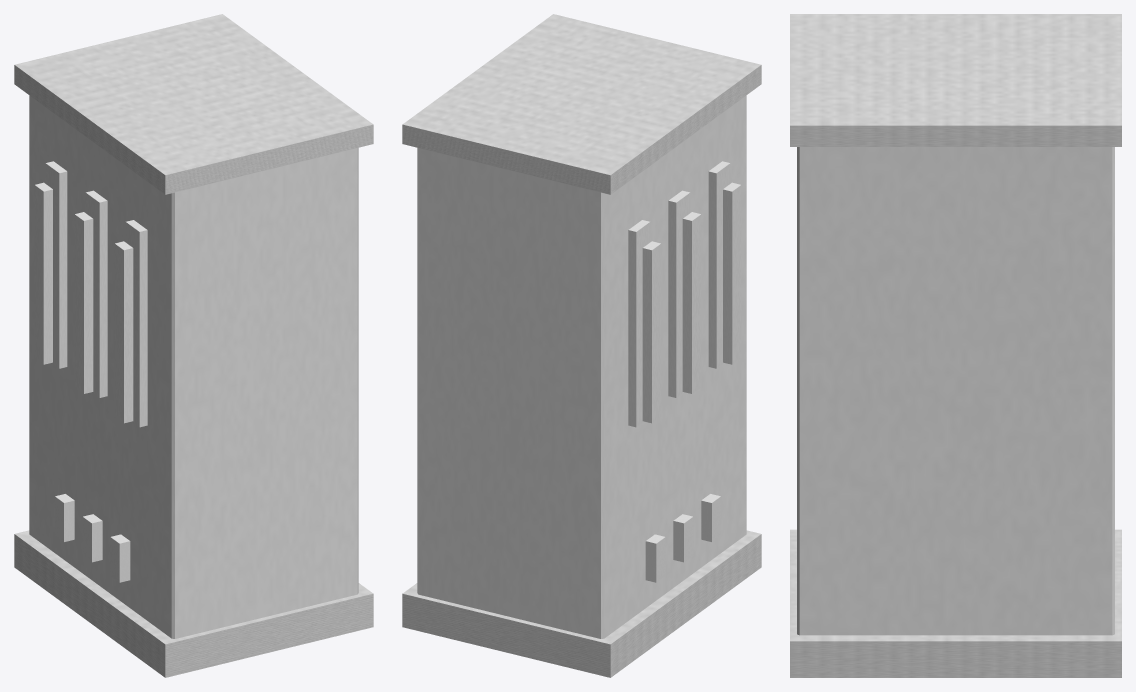
Rendered from undergroundfused3.obj.
The picture shows the model from 3 angles, left to right: view 1: azimuth 30°, elevation 25°; view 2: azimuth 150°, elevation 25°; view 3: azimuth 270°, elevation 25°; orthographic projection. The views are drawn at different scales.
Parts seen in each view (by area): view 1: Case, Trim, Door1, Door2, Door0, Fuse0, Fuse1, Fuse2, Services; view 2: Case, Trim, Door1, Door0, Door2, Fuse2, Fuse1, Fuse0, Services; view 3: Case, Trim.
Part boxes in pixels (x1,y1,x2,y2): Case: (29, 95, 358, 638); Trim: (14, 14, 373, 677); Door1: (74, 212, 93, 393); Door2: (114, 241, 133, 423); Door0: (34, 182, 52, 364); Fuse0: (45, 161, 67, 368); Fuse1: (85, 190, 107, 397); Fuse2: (125, 220, 147, 427); Services: (55, 494, 130, 582); Case: (417, 95, 746, 638); Trim: (402, 14, 761, 677); Door1: (682, 212, 701, 393); Door0: (642, 241, 661, 423); Door2: (723, 182, 741, 364); Fuse2: (708, 161, 730, 368); Fuse1: (668, 190, 690, 397); Fuse0: (628, 220, 650, 427); Services: (645, 494, 720, 582); Case: (797, 147, 1114, 635); Trim: (790, 14, 1121, 677).
Bounding box in the file's own units: 0.82 × 1.8 × 0.98.
